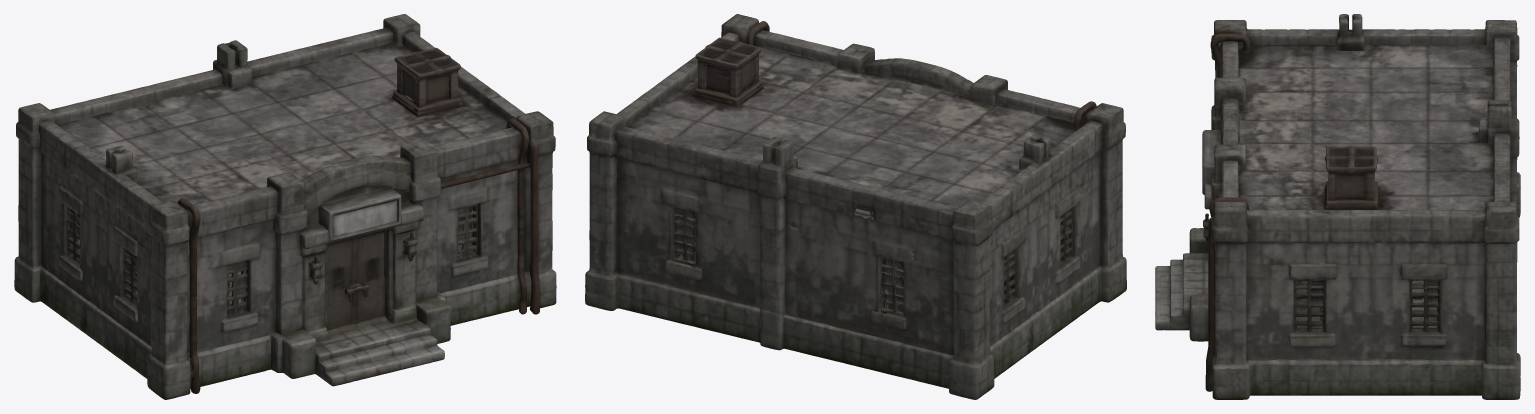
The model's file is library-exterior-optimized.glb.
3 views of the same model, side by side, from view 1: azimuth 30°, elevation 25°; view 2: azimuth 150°, elevation 25°; view 3: azimuth 270°, elevation 25° (orthographic). The views are drawn at different scales.
Visible parts, largest first — view 1: world; view 2: world; view 3: world.
Boxes of the visible parts, box(x1,y1,x2,y2) form: world: box(14, 14, 556, 399); world: box(585, 14, 1126, 399); world: box(1155, 14, 1520, 399).
Size of the model in its own units: 1 by 0.5165 by 0.7918.
1 material, 1 textured.
